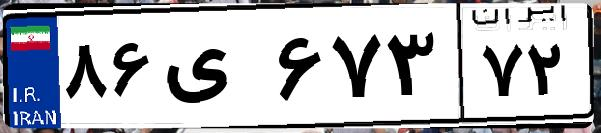2: (525, 38, 570, 115)
3: (385, 28, 445, 110)
6: (270, 28, 330, 110), (110, 28, 158, 98)
7: (330, 28, 385, 110), (475, 38, 525, 113)
8: (57, 26, 110, 100)
ی: (158, 20, 270, 120)
